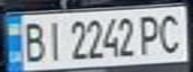2: (115, 14, 139, 58), (84, 16, 106, 61), (66, 16, 87, 62)
4: (103, 14, 124, 58)
B: (18, 18, 48, 63)
C: (154, 10, 187, 54)
I: (42, 17, 66, 63)
P: (136, 11, 163, 56)
